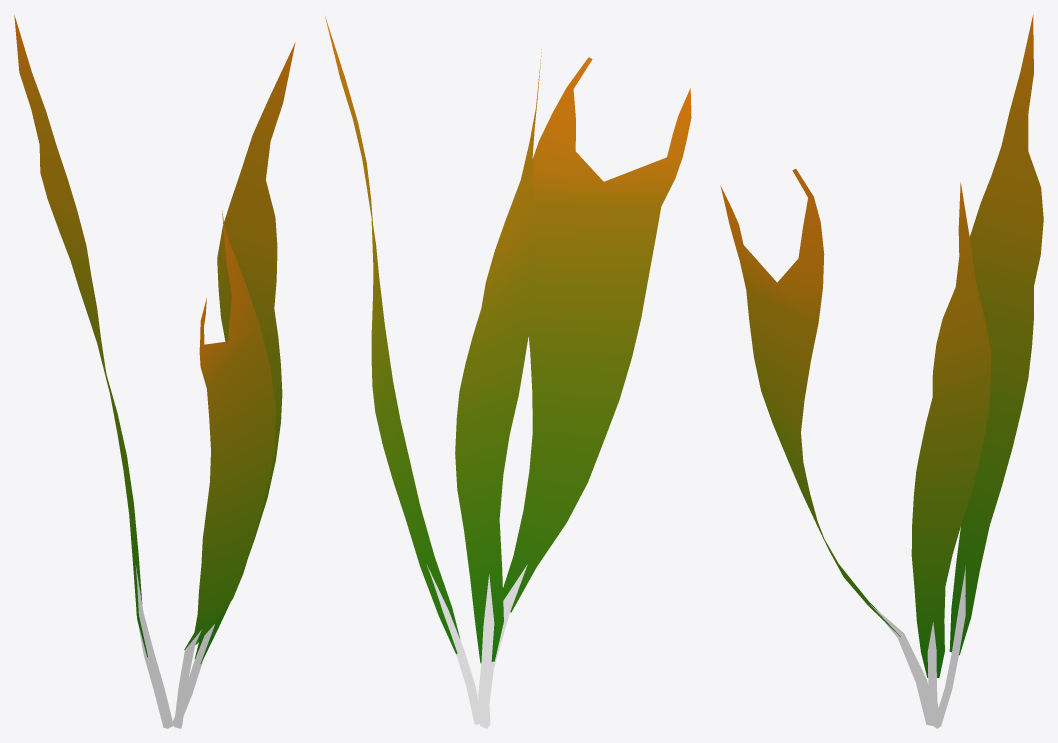
Rendered from sjglk_Var6_LOD0.fbx.
3 renders of one model, left to right at view 1: azimuth 30°, elevation 25°; view 2: azimuth 150°, elevation 25°; view 3: azimuth 270°, elevation 25°, orthographic. The views are drawn at different scales.
Visible parts, largest first — view 1: _3795_Var6_LOD0; view 2: _3795_Var6_LOD0; view 3: _3795_Var6_LOD0.
Boxes of the visible parts, x1,y1,x2,y2 form: _3795_Var6_LOD0: (14, 15, 295, 728); _3795_Var6_LOD0: (325, 16, 691, 728); _3795_Var6_LOD0: (720, 14, 1043, 728).
Size of the model in its own units: 31.73 by 87.69 by 38.83.
